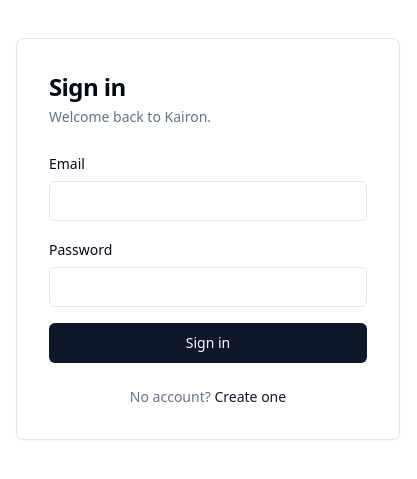
client-side validation blocks an empty submit
This screenshot has width=417, height=479.
Click the button "Sign in" at (208, 343), box [49, 323, 367, 363]
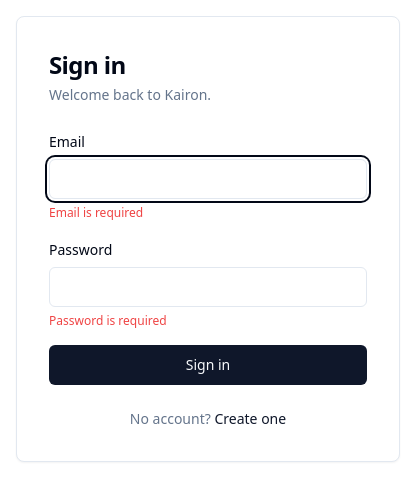
Now the text "Email is required" is shown, box [49, 204, 143, 221]
